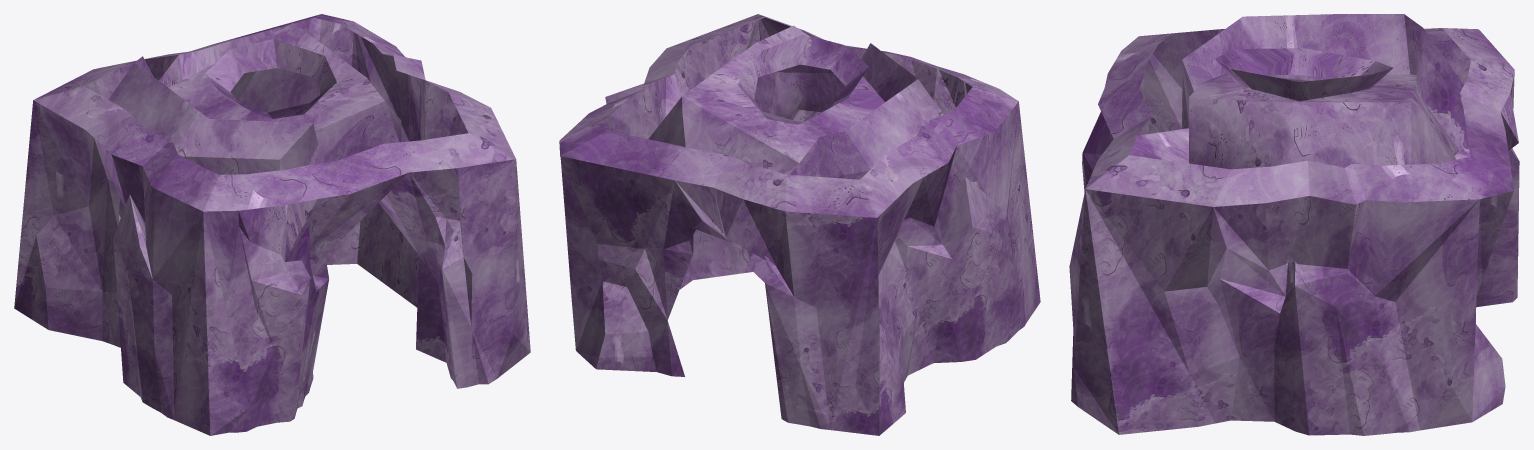
The model's file is Floating_Island_4_Art.glb.
The picture shows the model from 3 angles, left to right: view 1: azimuth 30°, elevation 25°; view 2: azimuth 150°, elevation 25°; view 3: azimuth 270°, elevation 25°; orthographic projection. The views are drawn at different scales.
Visible parts, largest first — view 1: Floating_Island_4_Art; view 2: Floating_Island_4_Art; view 3: Floating_Island_4_Art.
Part boxes in pixels (box(x1,y1,x2,y2)): Floating_Island_4_Art: box(14, 14, 530, 435); Floating_Island_4_Art: box(559, 14, 1040, 435); Floating_Island_4_Art: box(1069, 14, 1519, 435).
Size of what is drawn, in the model's own units: 15.33 by 11.21 by 15.74.
1 material, 1 textured.
